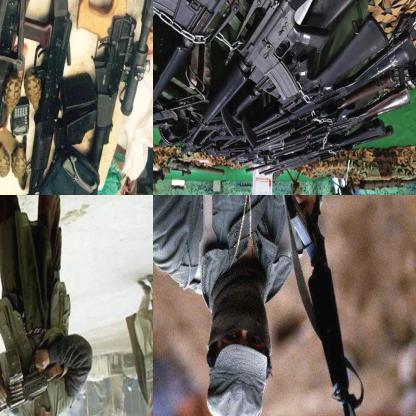rifle: (187, 0, 404, 146), (217, 13, 387, 150), (153, 0, 322, 128), (276, 195, 365, 415), (254, 28, 415, 136), (64, 0, 152, 194), (14, 0, 87, 194), (0, 0, 53, 194), (0, 348, 64, 415)
